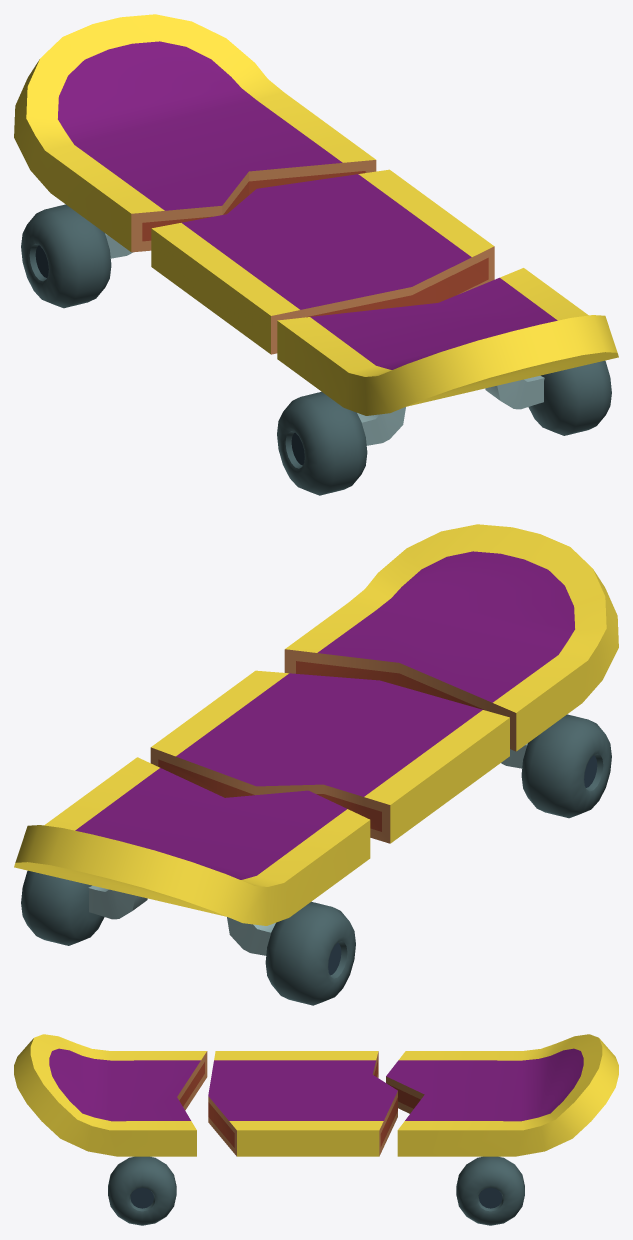
The model's file is Skateboard 1.fbx.
The picture shows the model from 3 angles, top to bottom: view 1: azimuth 30°, elevation 25°; view 2: azimuth 150°, elevation 25°; view 3: azimuth 270°, elevation 25°; orthographic projection. The views are drawn at different scales.
Visible parts, largest first — view 1: Skateboard; view 2: Skateboard; view 3: Skateboard.
Part boxes in pixels (x1,y1,x2,y2): Skateboard: [14, 14, 618, 495]; Skateboard: [14, 524, 618, 1005]; Skateboard: [14, 1034, 618, 1225].
Size of the model in its own units: 252 by 153 by 644.
